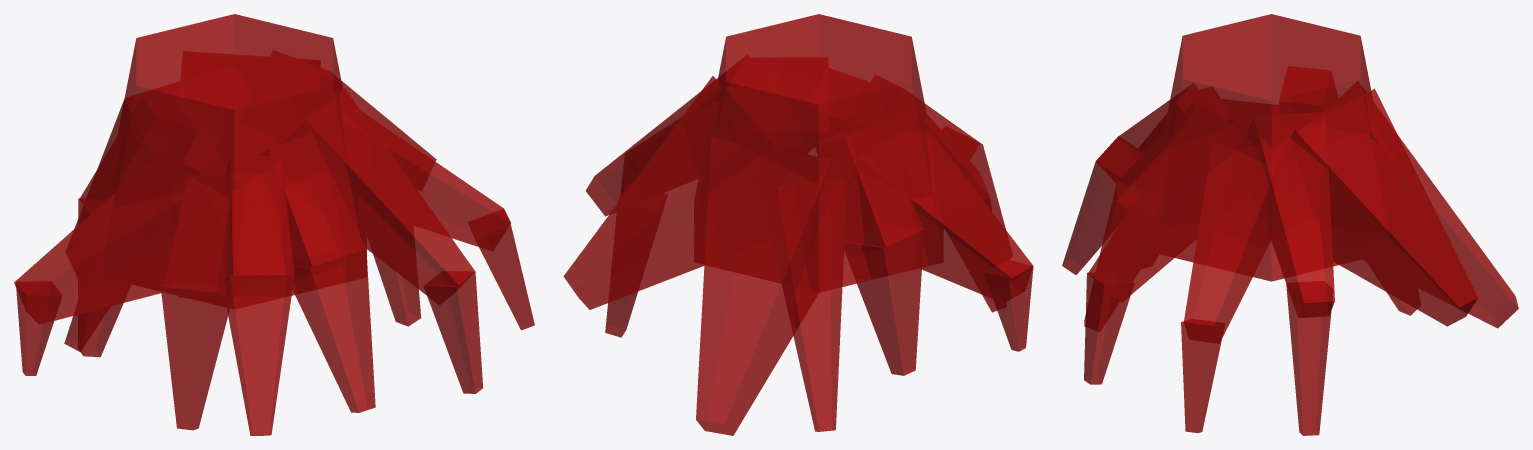
Rendered from SM_Prop_Stump_01_Collision.fbx.
The picture shows the model from 3 angles, left to right: view 1: azimuth 30°, elevation 25°; view 2: azimuth 150°, elevation 25°; view 3: azimuth 270°, elevation 25°; orthographic projection. The views are drawn at different scales.
Parts seen in each view (by area): view 1: SM_Prop_Stump_01_Collision; view 2: SM_Prop_Stump_01_Collision; view 3: SM_Prop_Stump_01_Collision.
Part boxes in pixels (box(x1,y1,x2,y2)): SM_Prop_Stump_01_Collision: box(14, 14, 534, 435); SM_Prop_Stump_01_Collision: box(563, 14, 1033, 435); SM_Prop_Stump_01_Collision: box(1062, 14, 1518, 435).
Size of the model in its own units: 296 by 192 by 272.
